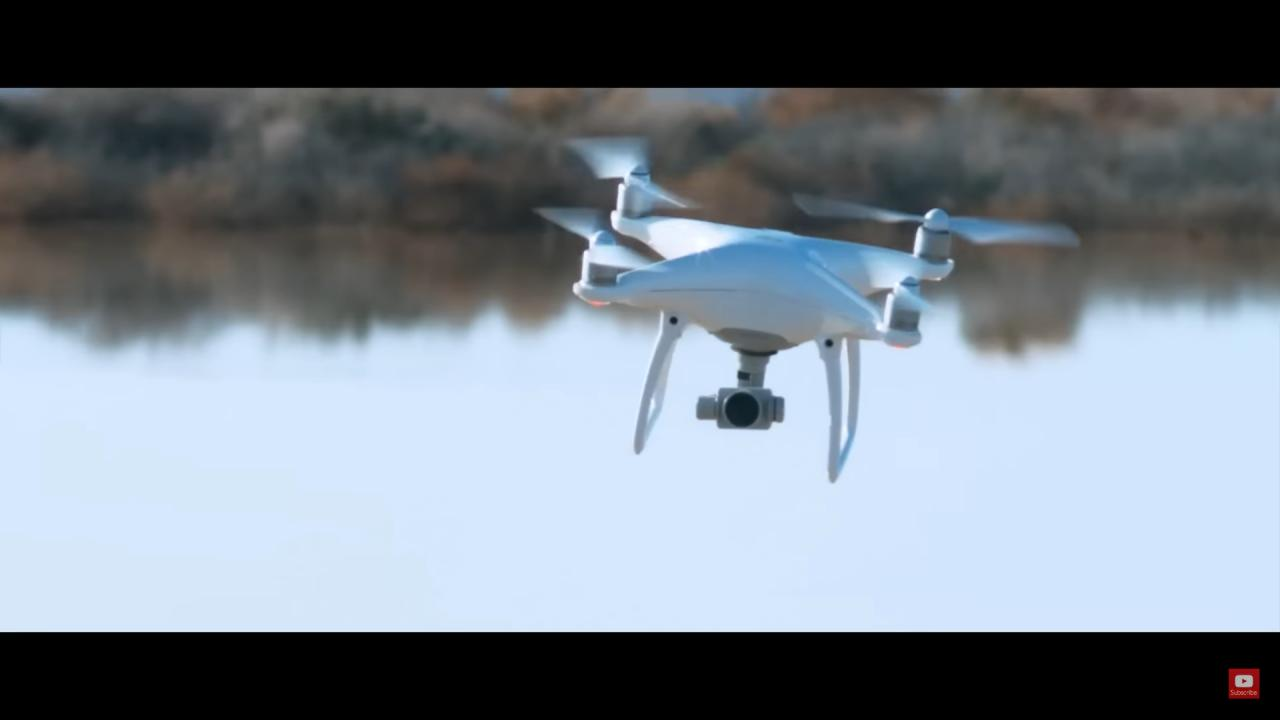Drone: (520, 125, 1086, 493)
